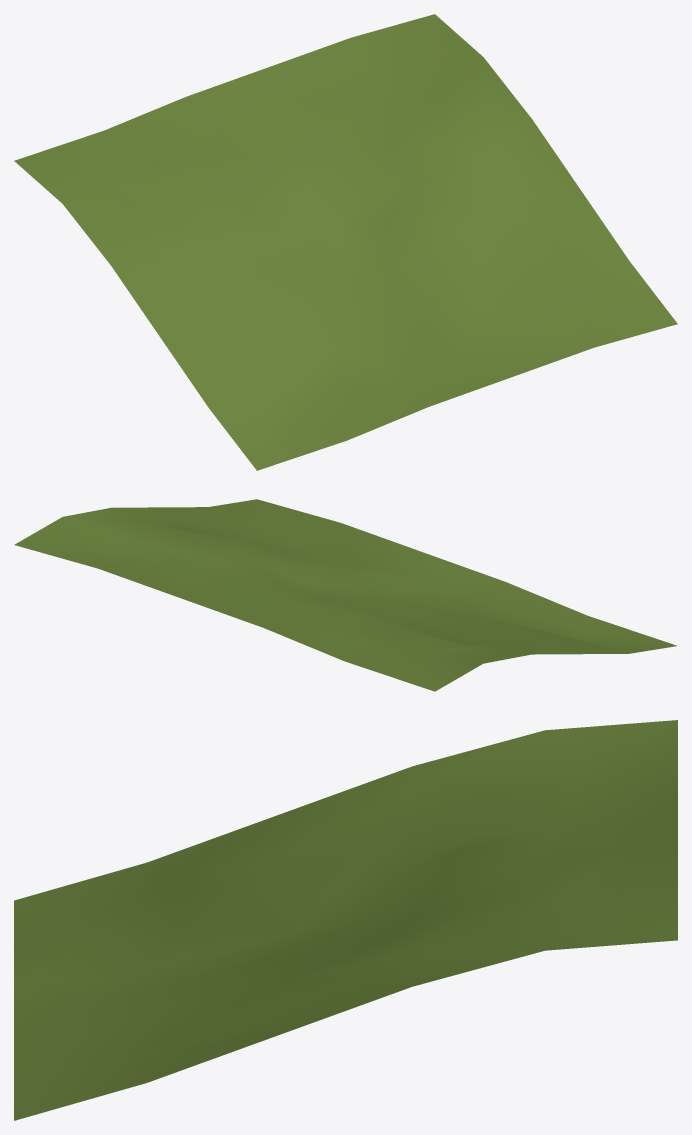
Rendered from rpgpp_ag_terrain_hill_01f_10x10m_1-3-1-3m.fbx.
The picture shows the model from 3 angles, top to bottom: view 1: azimuth 30°, elevation 25°; view 2: azimuth 150°, elevation 25°; view 3: azimuth 270°, elevation 25°; orthographic projection. The views are drawn at different scales.
Parts seen in each view (by area): view 1: rpgpp_ag_terrain_hill_01f_10x10m_1-3-1-3m; view 2: rpgpp_ag_terrain_hill_01f_10x10m_1-3-1-3m; view 3: rpgpp_ag_terrain_hill_01f_10x10m_1-3-1-3m.
Part boxes in pixels (x1,y1,x2,y2): rpgpp_ag_terrain_hill_01f_10x10m_1-3-1-3m: (14,14,677,470); rpgpp_ag_terrain_hill_01f_10x10m_1-3-1-3m: (14,499,676,691); rpgpp_ag_terrain_hill_01f_10x10m_1-3-1-3m: (14,720,677,1120).
Bounding box in the file's own units: 10 × 4 × 10.
